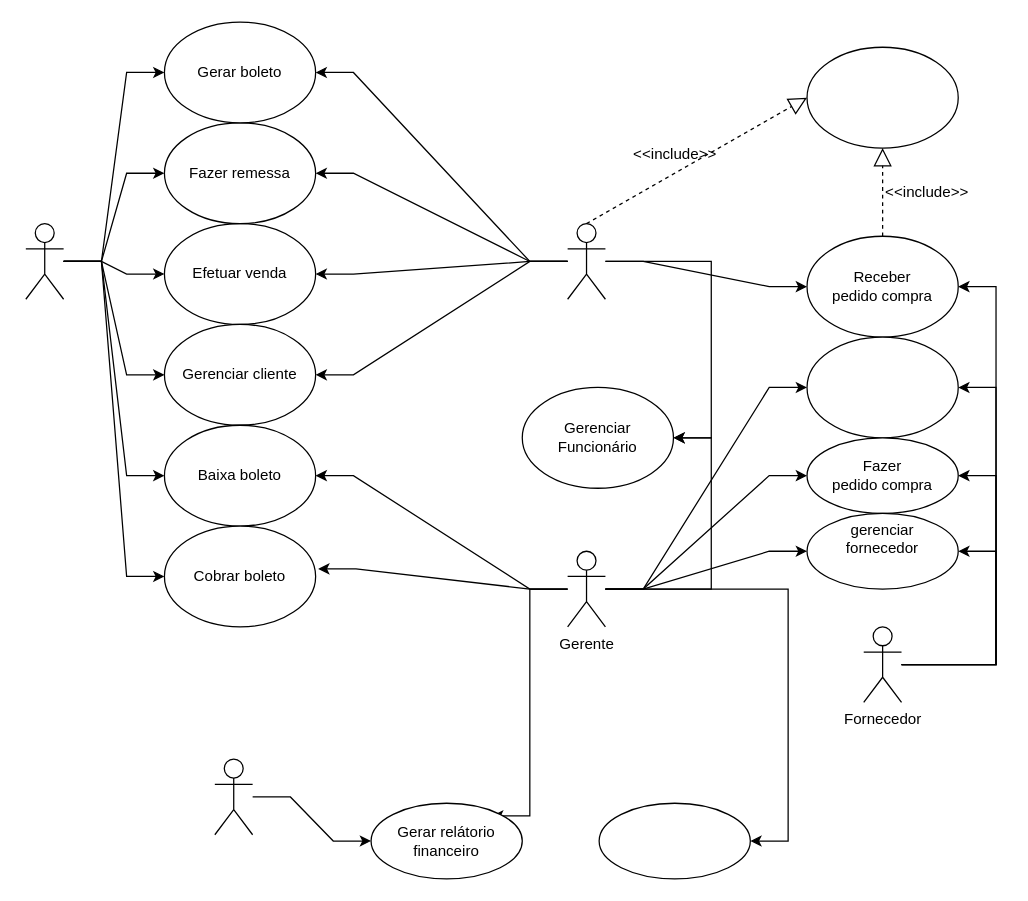
Some shapes in this 1028 by 901 pixel diagram are drawn without their labels. Here are the shapes that lost their labels. From the top down, the centre of each, then its label:
the point at 882,97: Atualizar estoque
the point at 44,260: Cliente
the point at 585,260: Vendedor
the point at 882,387: Gerenciar livros
the point at 233,796: Contabilidade
the point at 674,840: Gerenciar relatório estoque
